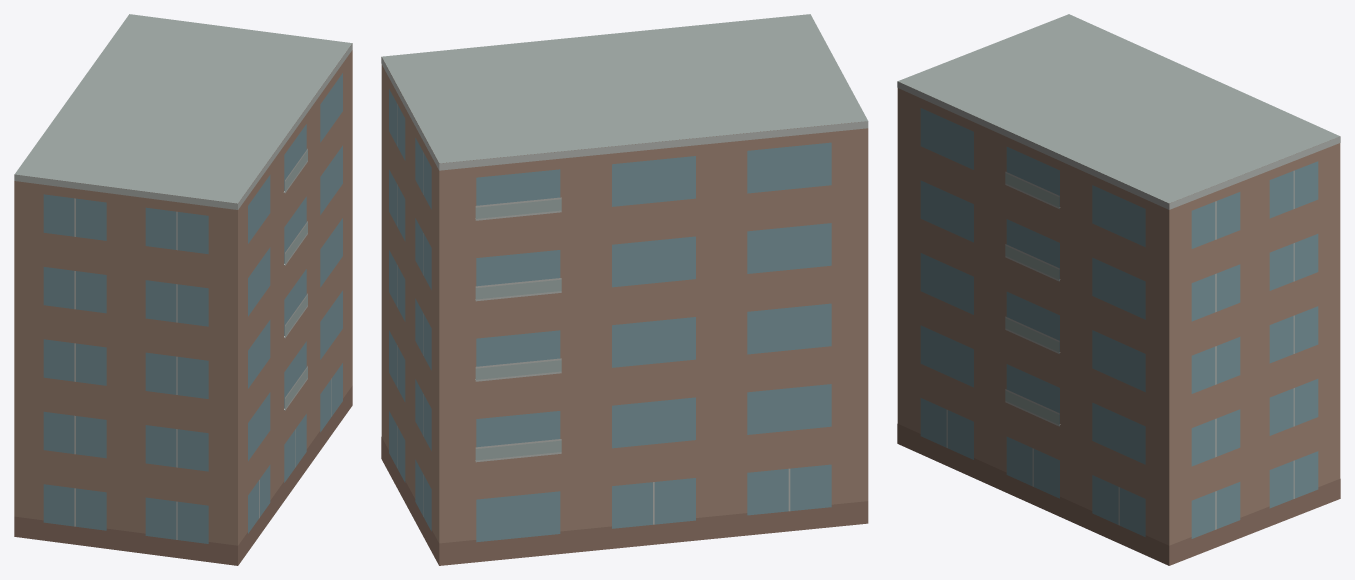
Rendered from survey-upis-32970798.glb.
3 renders of one model, left to right at view 1: azimuth 30°, elevation 25°; view 2: azimuth 150°, elevation 25°; view 3: azimuth 270°, elevation 25°, orthographic. The views are drawn at different scales.
Visible parts, largest first — view 1: survey-upis-32970798.tmp; view 2: survey-upis-32970798.tmp; view 3: survey-upis-32970798.tmp.
Part boxes in pixels (left/top/right/bottom): survey-upis-32970798.tmp: left=14, top=14, right=352, bottom=565; survey-upis-32970798.tmp: left=381, top=14, right=868, bottom=565; survey-upis-32970798.tmp: left=897, top=14, right=1340, bottom=565.
Size of the model in its own units: 15.26 by 13.6 by 15.07.
